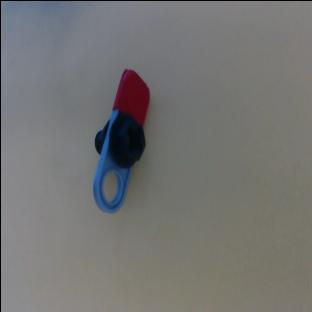part_1_good: (70, 66, 169, 216)
